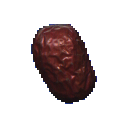gd: (20, 14, 125, 124)
